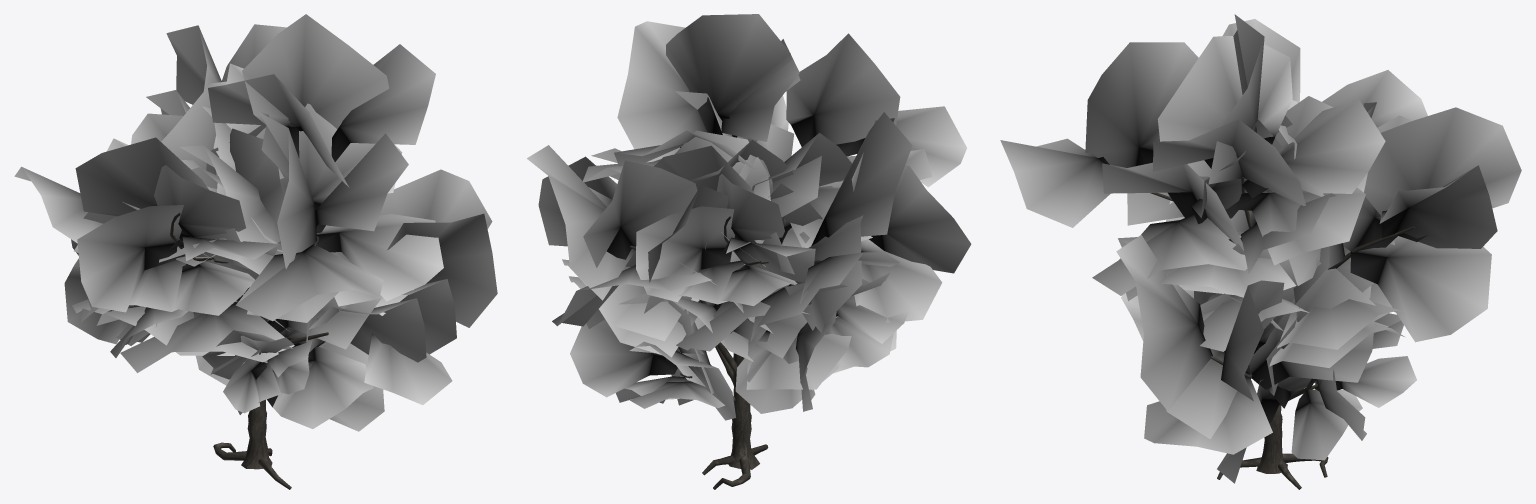
The model's file is tree2_afsTREE.fbx.
3 views of the same model, side by side, from view 1: azimuth 30°, elevation 25°; view 2: azimuth 150°, elevation 25°; view 3: azimuth 270°, elevation 25° (orthographic). The views are drawn at different scales.
Parts seen in each view (by area): view 1: leaf_xt15_41, leaf_xt15_27, leaf_xt15_22, leaf_xt15_40, leaf_xt15_66, leaf_xt15_69, leaf_xt15_52, leaf_xt15_70, leaf_xt15_3, leaf_xt15_54, leaf_xt15_71, leaf_xt15_39 (+34 smaller); view 2: leaf_xt15_41, leaf_xt15_71, leaf_xt15_40, leaf_xt15_22, leaf_xt15_63, leaf_xt15_13, leaf_xt15_27, leaf_xt15_62, leaf_xt15_34, leaf_xt15_23, leaf_xt15_69, leaf_xt15 (+36 smaller); view 3: leaf_xt15_63, leaf_xt15_56, leaf_xt15_71, leaf_xt15_39, leaf_xt15_52, leaf_xt15_45, leaf_xt15_62, leaf_xt15_69, leaf_xt15_40, leaf_xt15_47, leaf_xt15_66, leaf_xt15_44 (+26 smaller).
Part boxes in pixels (bbox=[...]): leaf_xt15_41: bbox=[242, 14, 389, 158]; leaf_xt15_27: bbox=[77, 205, 183, 312]; leaf_xt15_22: bbox=[75, 137, 250, 269]; leaf_xt15_40: bbox=[331, 44, 435, 161]; leaf_xt15_66: bbox=[316, 214, 443, 301]; leaf_xt15_69: bbox=[235, 244, 383, 321]; leaf_xt15_52: bbox=[387, 213, 497, 327]; leaf_xt15_70: bbox=[315, 133, 408, 231]; leaf_xt15_3: bbox=[120, 303, 294, 372]; leaf_xt15_54: bbox=[272, 346, 373, 428]; leaf_xt15_71: bbox=[259, 112, 316, 268]; leaf_xt15_39: bbox=[208, 74, 349, 187]; leaf_xt15_41: bbox=[666, 14, 800, 137]; leaf_xt15_71: bbox=[786, 33, 900, 146]; leaf_xt15_40: bbox=[617, 21, 707, 162]; leaf_xt15_22: bbox=[811, 112, 912, 245]; leaf_xt15_63: bbox=[583, 160, 697, 267]; leaf_xt15_13: bbox=[636, 206, 734, 302]; leaf_xt15_27: bbox=[869, 165, 971, 273]; leaf_xt15_62: bbox=[527, 145, 635, 300]; leaf_xt15_34: bbox=[570, 319, 680, 397]; leaf_xt15_23: bbox=[854, 239, 942, 322]; leaf_xt15_69: bbox=[836, 106, 966, 187]; leaf_xt15: bbox=[746, 334, 851, 389]; leaf_xt15_63: bbox=[1364, 107, 1521, 241]; leaf_xt15_56: bbox=[1350, 236, 1491, 342]; leaf_xt15_71: bbox=[1085, 42, 1198, 167]; leaf_xt15_39: bbox=[1157, 36, 1292, 178]; leaf_xt15_52: bbox=[1116, 235, 1212, 410]; leaf_xt15_45: bbox=[1242, 99, 1385, 198]; leaf_xt15_62: bbox=[1379, 165, 1497, 248]; leaf_xt15_69: bbox=[1000, 138, 1110, 227]; leaf_xt15_40: bbox=[1153, 119, 1305, 205]; leaf_xt15_47: bbox=[1249, 268, 1375, 389]; leaf_xt15_66: bbox=[1092, 214, 1247, 295]; leaf_xt15_44: bbox=[1235, 187, 1365, 265].
Size of the model in its own units: 1536 by 1556 by 1586.
